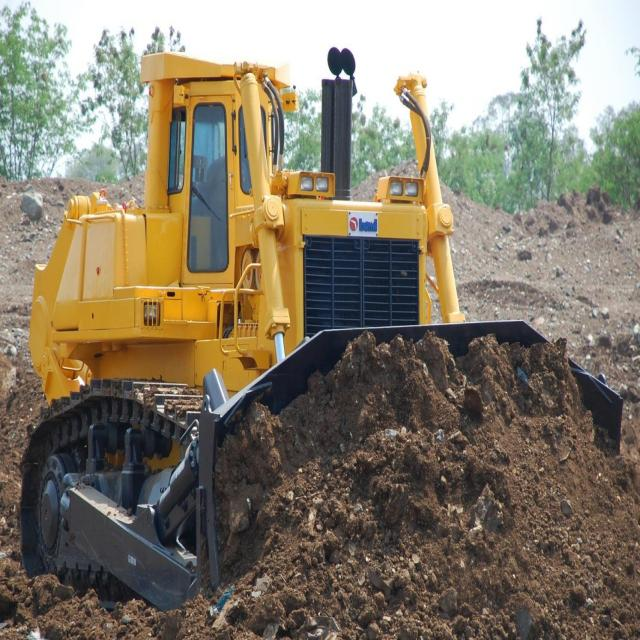Bulldozer: (21, 41, 623, 614)
